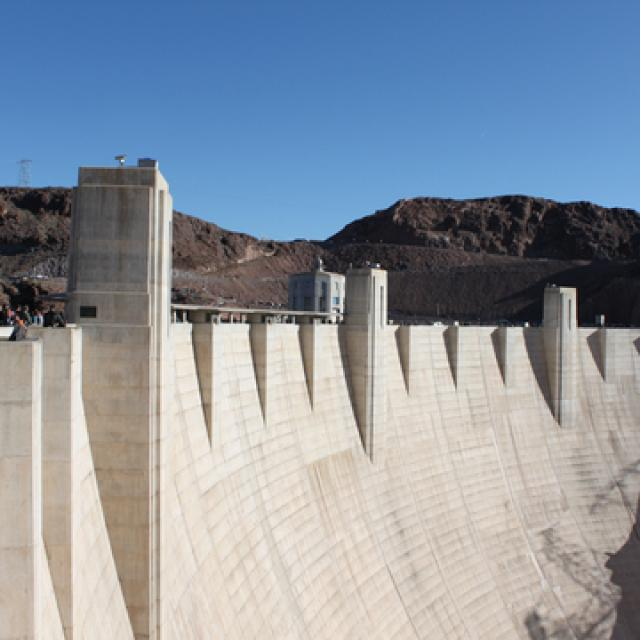Concrete: (0, 160, 640, 640)
